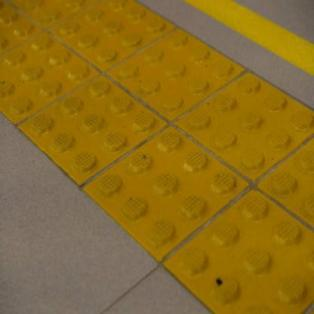Podoctatil: (2, 0, 313, 314)
